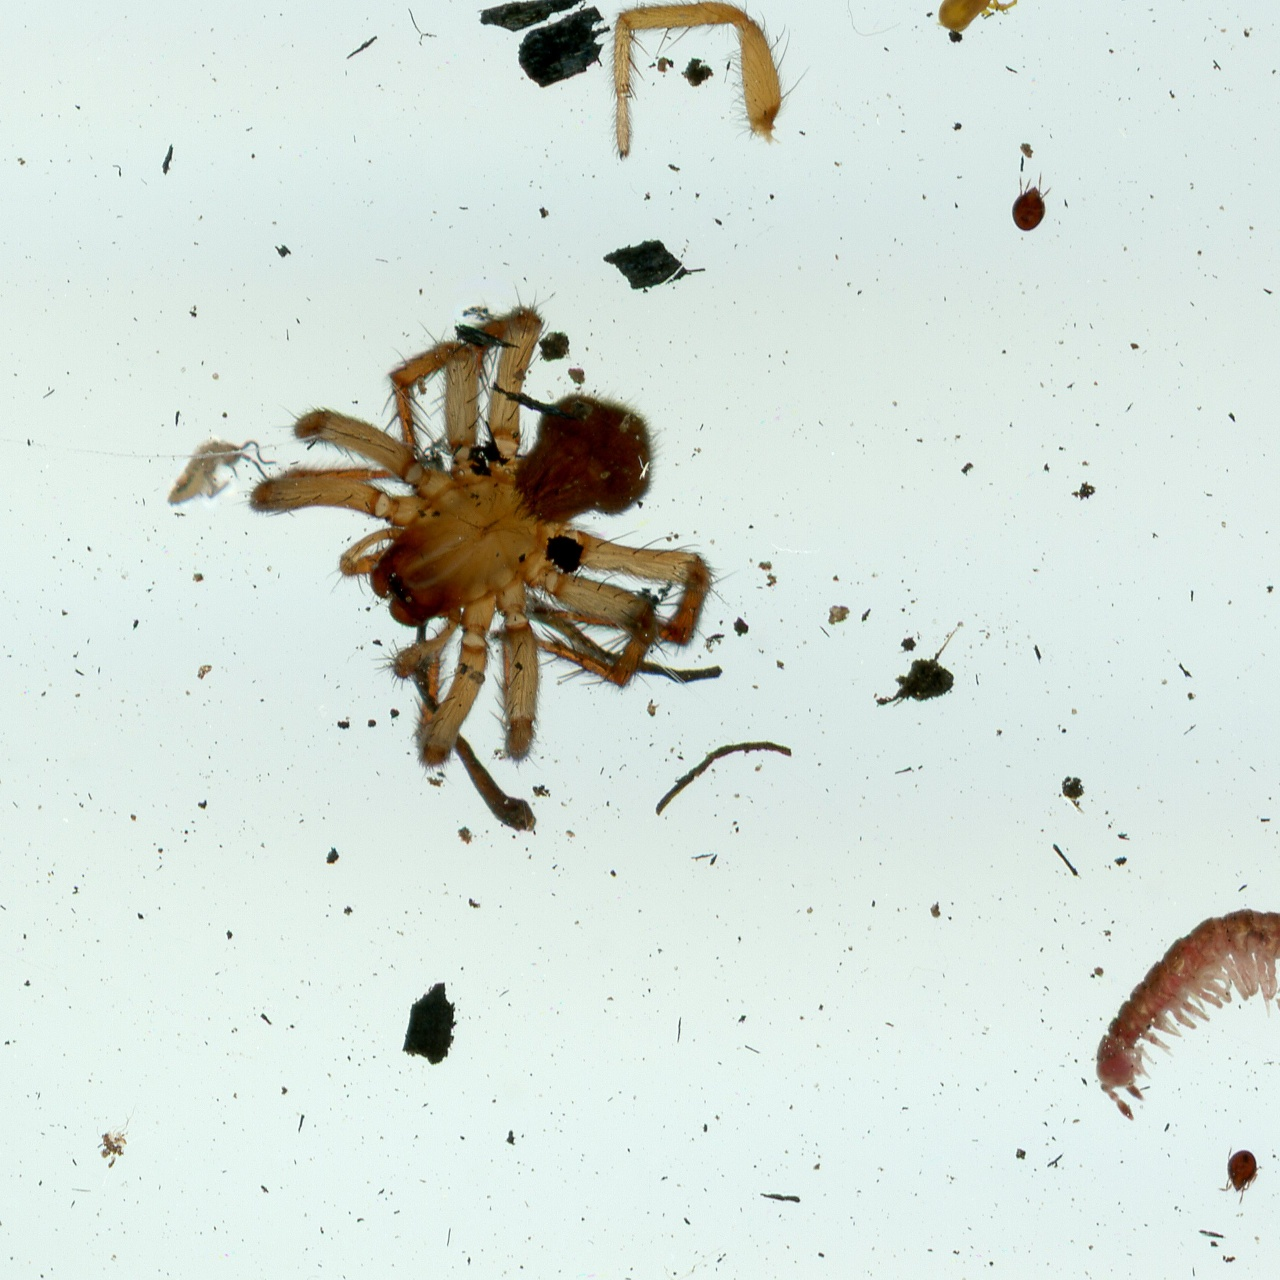arthropod: (232, 268, 743, 787), (1089, 905, 1280, 1201), (161, 435, 279, 512), (933, 0, 1023, 38), (1213, 1145, 1262, 1207), (1009, 170, 1055, 236)
